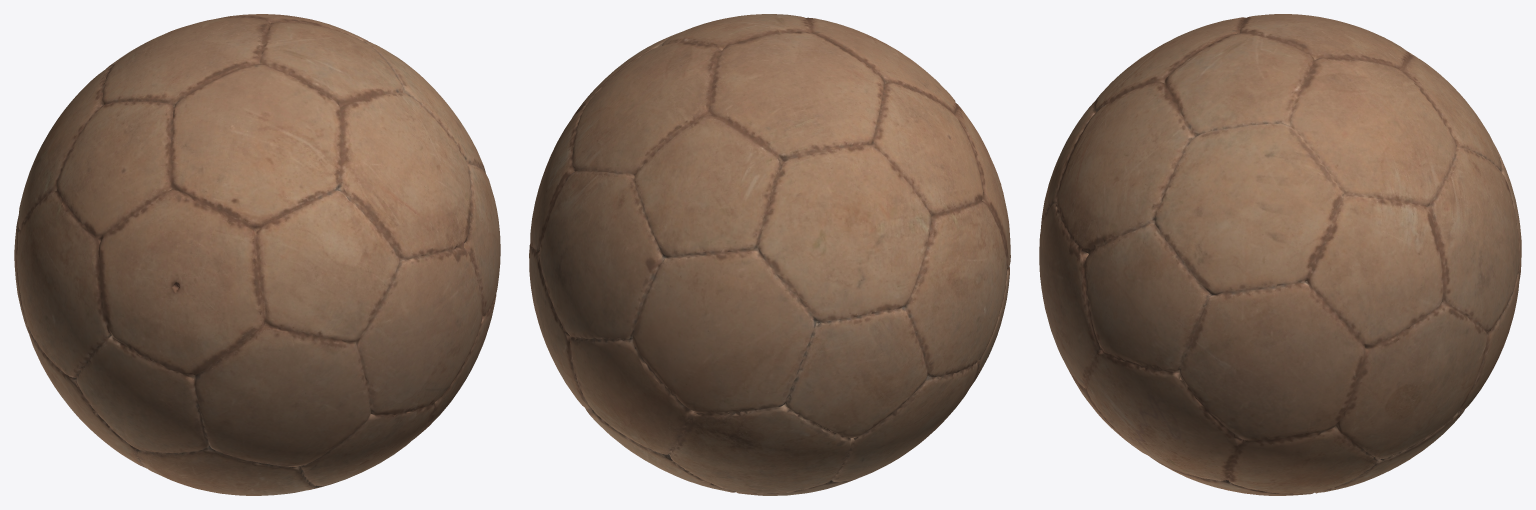
File: dirty_football.obj
3 renders of one model, left to right at view 1: azimuth 30°, elevation 25°; view 2: azimuth 150°, elevation 25°; view 3: azimuth 270°, elevation 25°, orthographic.
Parts seen in each view (by area): view 1: FootBall_LOD0; view 2: FootBall_LOD0; view 3: FootBall_LOD0.
Part boxes in pixels (left/top/right/bottom): FootBall_LOD0: left=14, top=14, right=500, bottom=495; FootBall_LOD0: left=529, top=14, right=1010, bottom=495; FootBall_LOD0: left=1039, top=14, right=1521, bottom=495.
Size of the model in its own units: 0.2214 by 0.22 by 0.22.
1 material, 1 textured.
